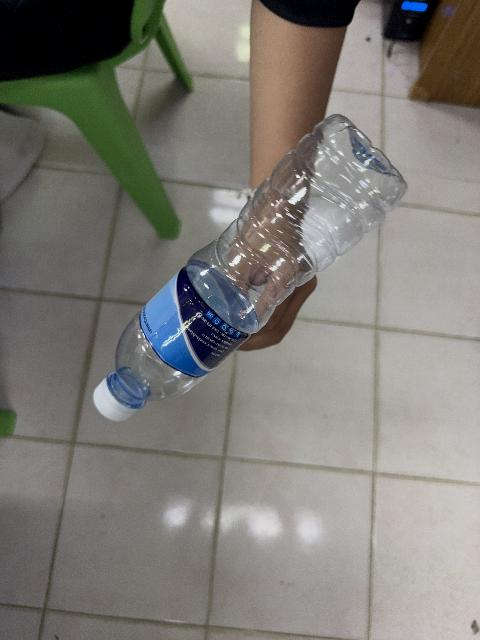bottle: (93, 116, 405, 420)
